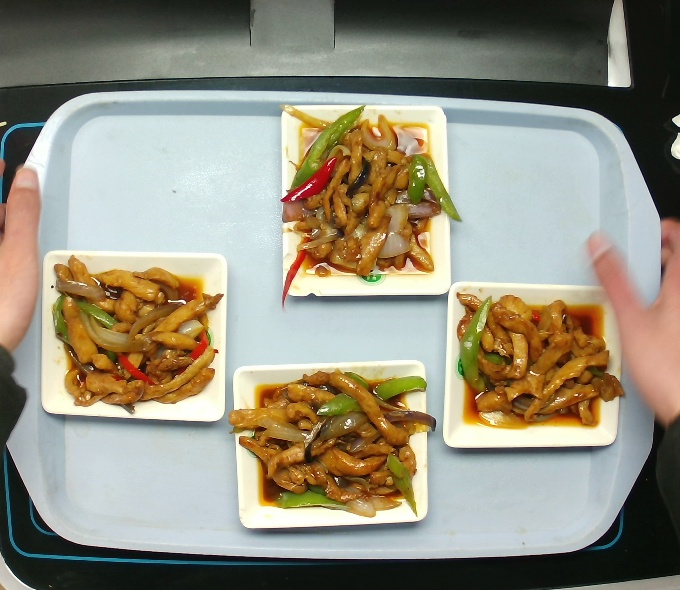wcq-YangCongChaoJiLiu: (288, 109, 441, 281), (51, 259, 219, 407), (252, 367, 420, 513), (455, 299, 611, 433)
